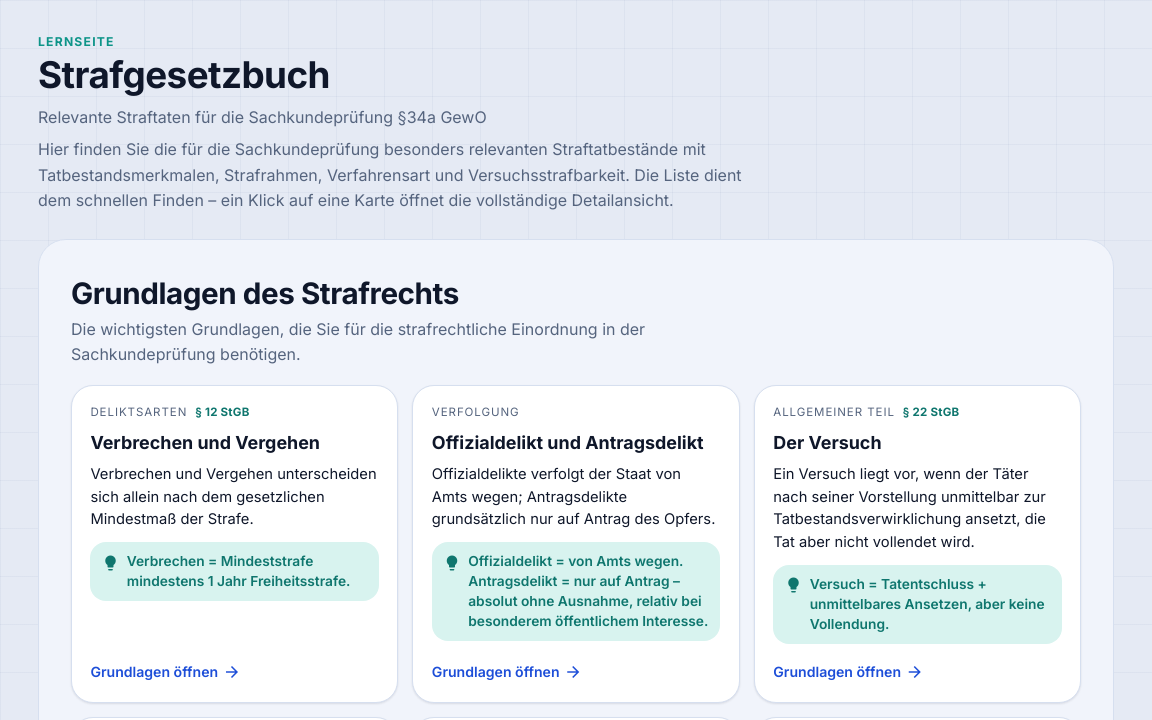
Test: StrafgesetzbuchComponent › öffnet ein Grundlagenthema als Lern-Modal
The image size is (1152, 720).
Click the button with class "basics-card" that starts with "Deliktsarten" at (235, 544), box [71, 385, 398, 703]
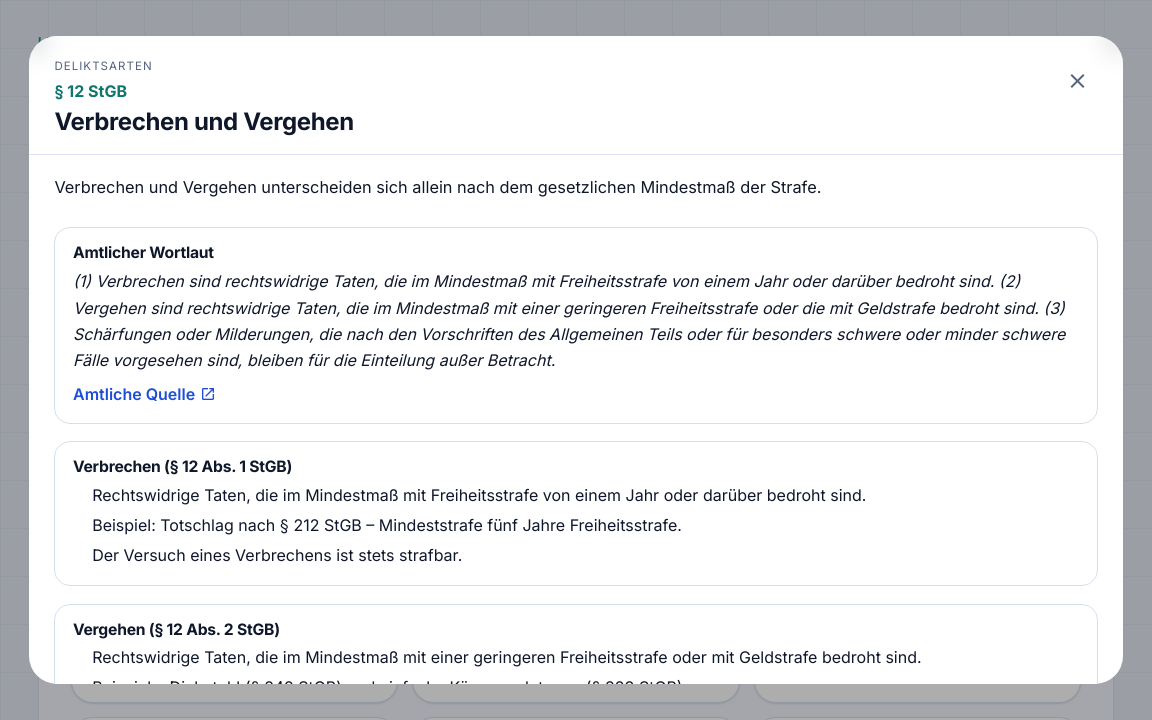
Now the element that starts with "Deliktsarten" is shown
Now the element that starts with "Deliktsarten" shows "Amtlicher Wortlaut", box [73, 243, 214, 262]
